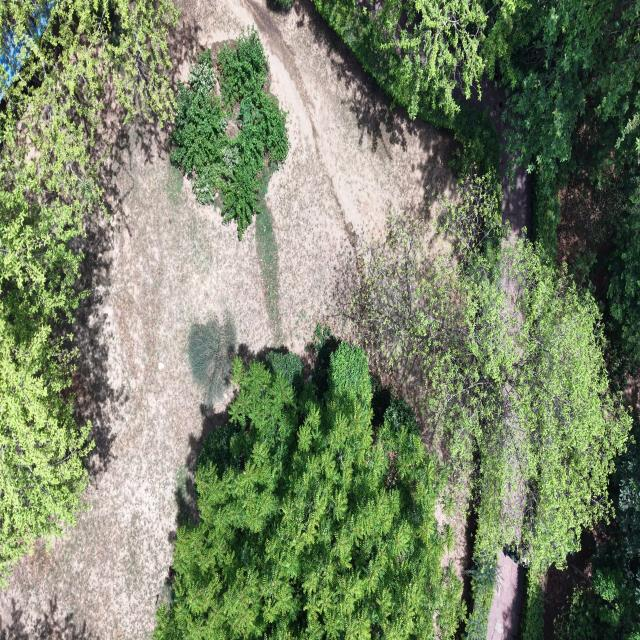DRY_AREA: (0, 0, 454, 639), (185, 0, 454, 244), (454, 76, 531, 243), (457, 77, 531, 242), (464, 76, 531, 239), (468, 78, 531, 242), (484, 83, 531, 243), (486, 86, 531, 245), (541, 531, 600, 639), (543, 531, 599, 637), (556, 174, 610, 269), (435, 490, 473, 606), (501, 405, 526, 543), (487, 550, 524, 639), (487, 551, 524, 639), (502, 435, 526, 541), (625, 374, 639, 414)
PATHWAYS: (466, 79, 530, 241)
VEGETATION_TREE: (156, 0, 639, 639), (315, 0, 639, 637), (353, 179, 630, 637), (315, 0, 639, 370), (353, 179, 630, 563), (0, 0, 177, 579), (0, 0, 176, 580), (155, 338, 463, 639), (315, 0, 639, 256), (497, 0, 639, 375), (508, 2, 639, 386), (520, 252, 630, 638), (513, 245, 631, 569), (497, 0, 639, 258), (315, 0, 499, 174), (352, 176, 503, 379), (315, 0, 527, 141), (0, 0, 177, 154), (171, 28, 288, 239), (499, 0, 637, 177), (0, 317, 92, 581), (316, 0, 487, 121), (557, 170, 639, 382), (560, 171, 639, 386), (554, 445, 639, 639), (596, 177, 639, 372), (554, 566, 639, 639), (188, 317, 237, 406), (256, 164, 281, 335), (613, 447, 639, 600), (265, 351, 302, 388), (274, 0, 293, 10)
